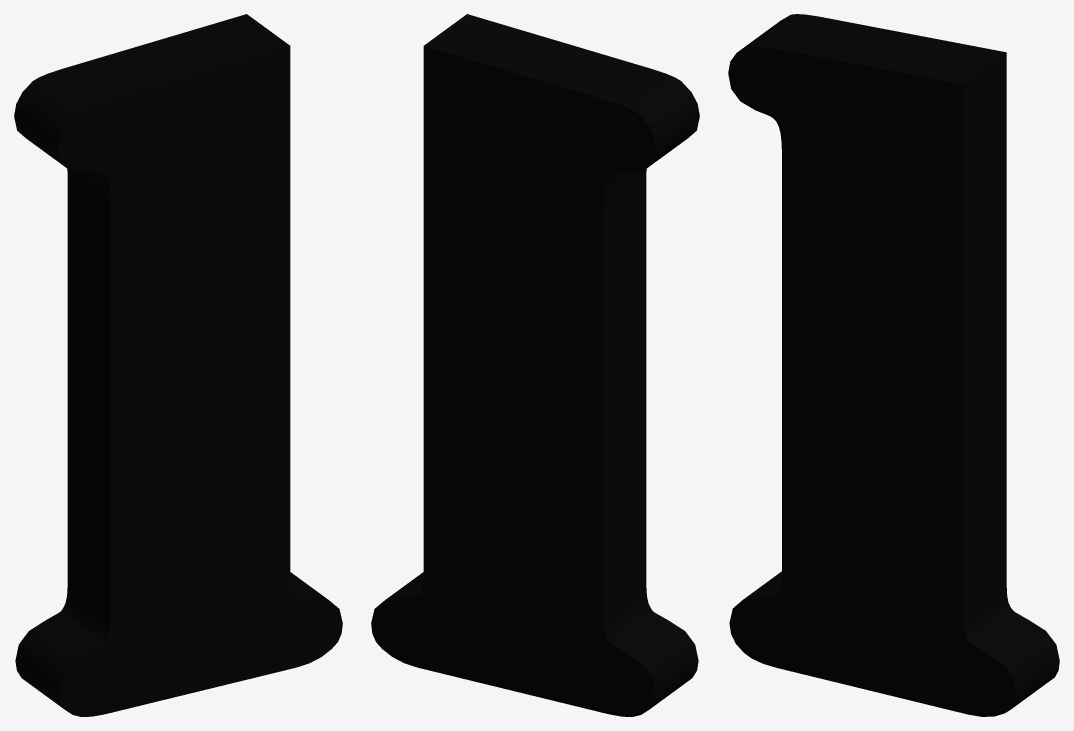
Rendered from number.glb.
3 views of the same model, side by side, from view 1: azimuth 30°, elevation 25°; view 2: azimuth 150°, elevation 25°; view 3: azimuth 330°, elevation 25° (orthographic).
Visible parts, largest first — view 1: mesh_id32; view 2: mesh_id32; view 3: mesh_id32.
Boxes of the visible parts, box(x1,y1,x2,y2) form: mesh_id32: box(14, 14, 342, 716); mesh_id32: box(371, 14, 699, 716); mesh_id32: box(728, 14, 1059, 716).
Size of the model in its own units: 0.3591 by 0.7496 by 0.0948.
1 material, 1 textured.
